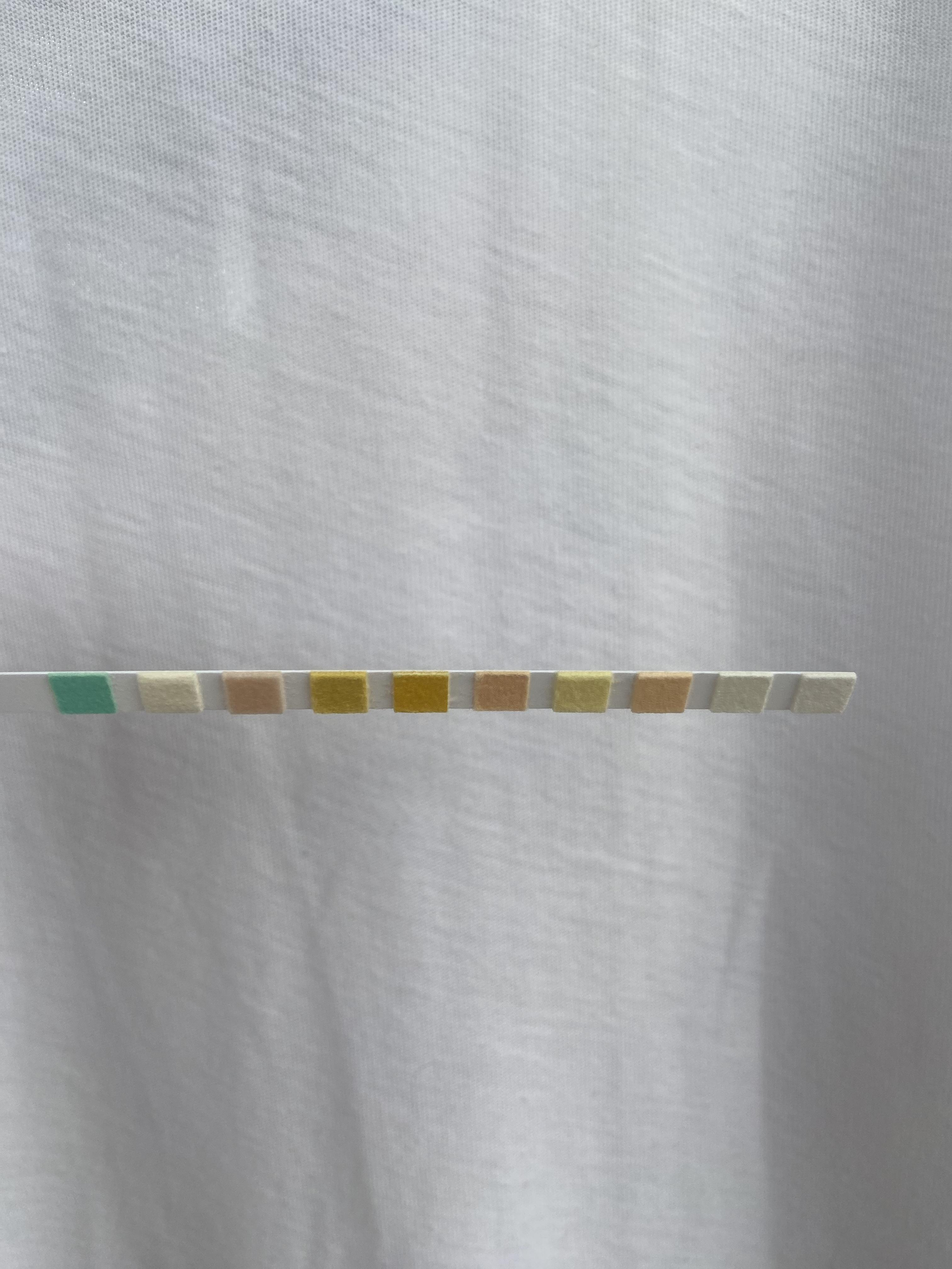Bilirubin: (146, 679, 191, 711)
Blood: (396, 677, 447, 712)
Glucose: (64, 677, 103, 711)
Ketone: (233, 678, 277, 713)
Leukocytes: (806, 678, 841, 712)
Nitrite: (723, 677, 760, 712)
Protein: (559, 679, 604, 712)
SpGravity: (316, 678, 362, 712)
Urobilinogen: (641, 679, 683, 711)
pH: (478, 675, 527, 710)
strip: (0, 672, 859, 713)
